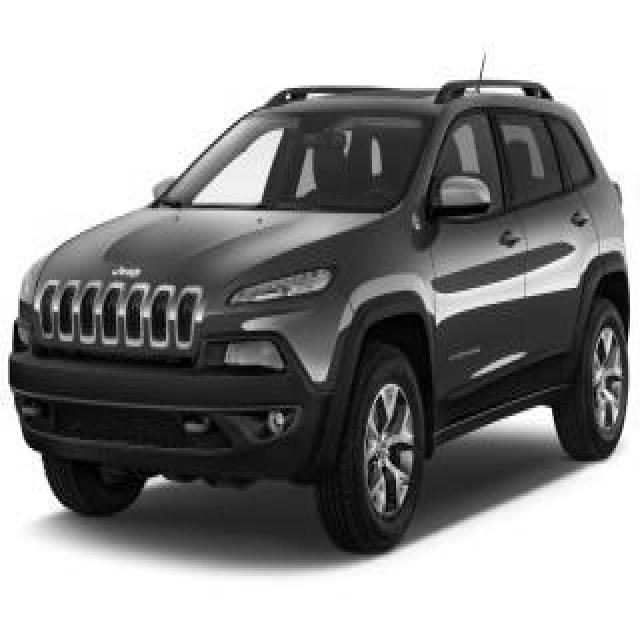Car: (9, 83, 630, 551)
